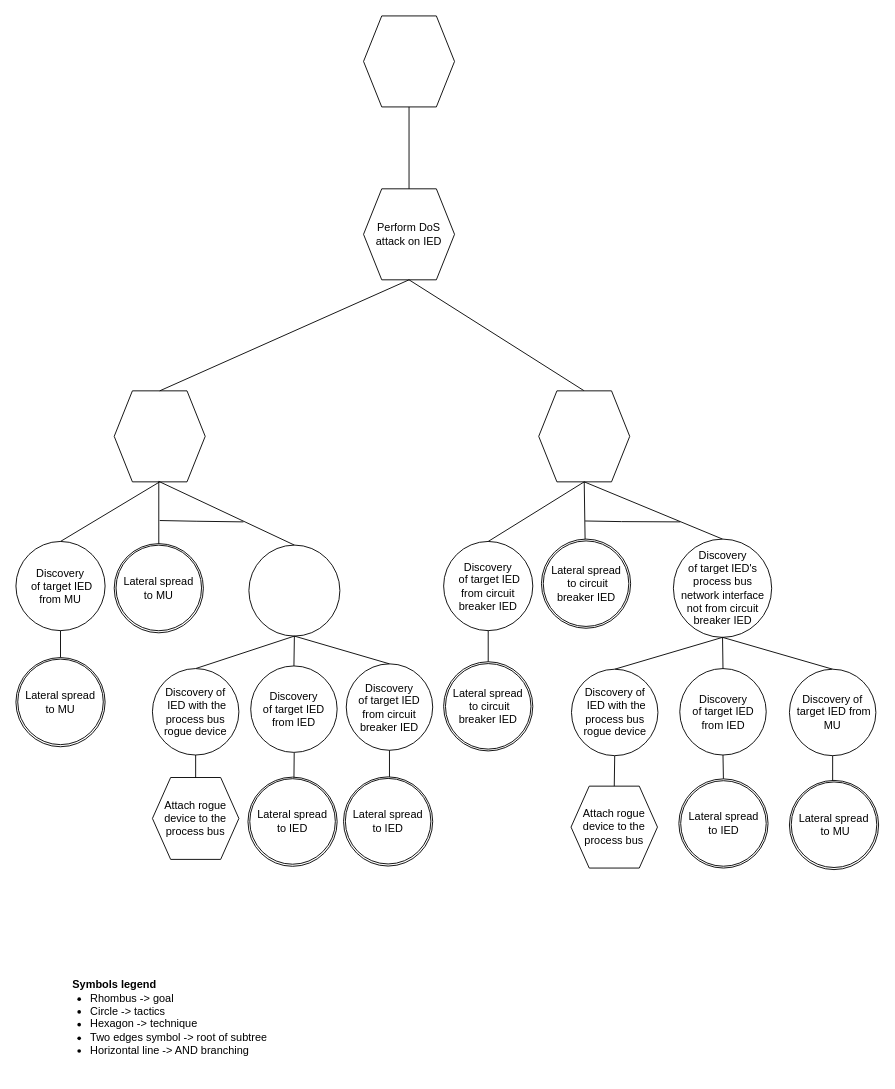
Some shapes in this 895 by 1089 pixel diagram are drawn without their labels. Here are the shapes that lost their labels. From the top down, the box of each, then its label:
(363, 15, 455, 107): Perform DoS attack
(113, 390, 205, 482): Perform DoS attack on the target IED from MU
(538, 390, 630, 482): Perform DoS attack on the IED from circuit breaker IED
(248, 544, 340, 636): Discovery of target IED's process bus network interface not from MU
